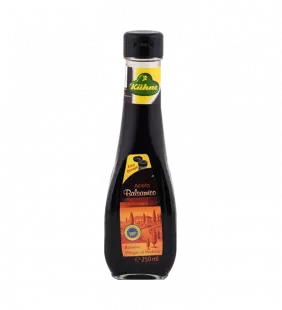KÜHNE: (99, 20, 187, 285)
